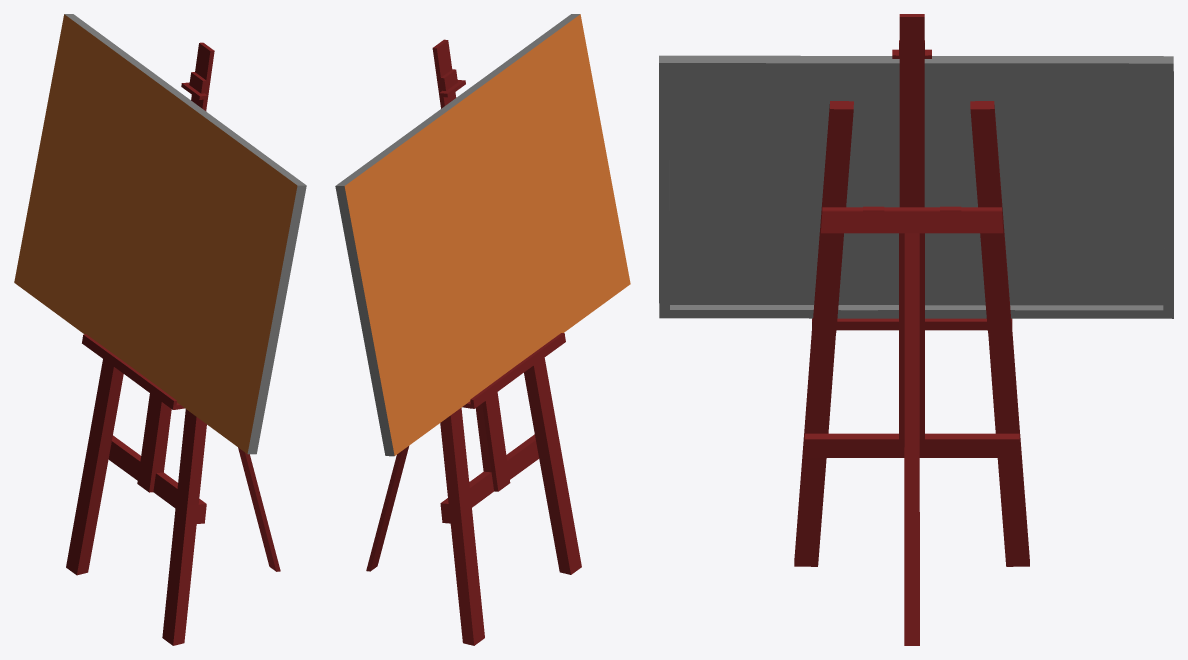
File: Paint.fbx
3 views of the same model, side by side, from view 1: azimuth 30°, elevation 25°; view 2: azimuth 150°, elevation 25°; view 3: azimuth 270°, elevation 25° (orthographic). The views are drawn at different scales.
Visible parts, largest first — view 1: canvas, easel; view 2: canvas, easel; view 3: canvas, easel.
Part boxes in pixels (x1,y1,x2,y2): canvas: (14, 14, 306, 454); easel: (66, 42, 280, 645); canvas: (335, 14, 630, 456); easel: (366, 39, 581, 645); canvas: (659, 55, 1173, 318); easel: (794, 14, 1029, 645).
Size of the model in its own units: 54.67 by 179 by 141.
